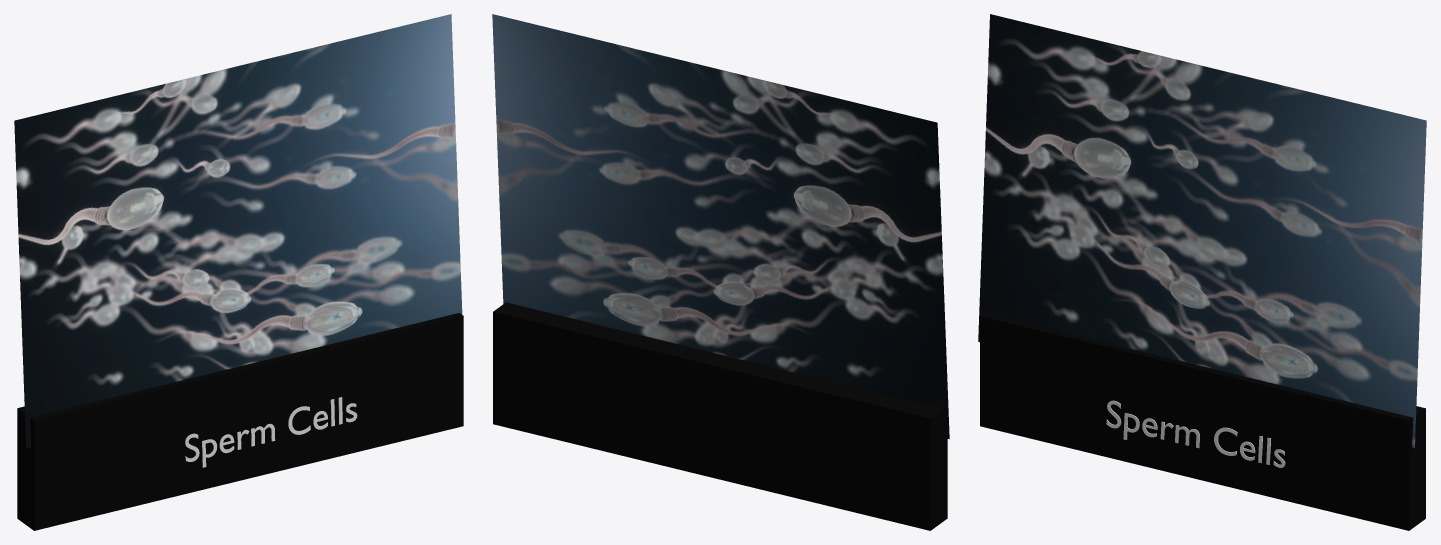
Rendered from spermssss.gltf.
3 renders of one model, left to right at view 1: azimuth 30°, elevation 25°; view 2: azimuth 150°, elevation 25°; view 3: azimuth 330°, elevation 25°, orthographic.
Visible parts, largest first — view 1: spermmy, Cube.005, Text.005; view 2: spermmy, Cube.005; view 3: spermmy, Cube.005, Text.005.
Part boxes in pixels (box(x1,y1,x2,y2)): spermmy: box(14, 14, 462, 448); Cube.005: box(17, 313, 463, 530); Text.005: box(185, 397, 357, 467); spermmy: box(492, 14, 949, 439); Cube.005: box(493, 302, 947, 530); spermmy: box(978, 14, 1426, 448); Cube.005: box(980, 313, 1425, 530); Text.005: box(1106, 400, 1285, 467).
Size of the model in its own units: 3.16 by 2.77 by 0.3709.
Materials: 2 (1 with a texture image).
